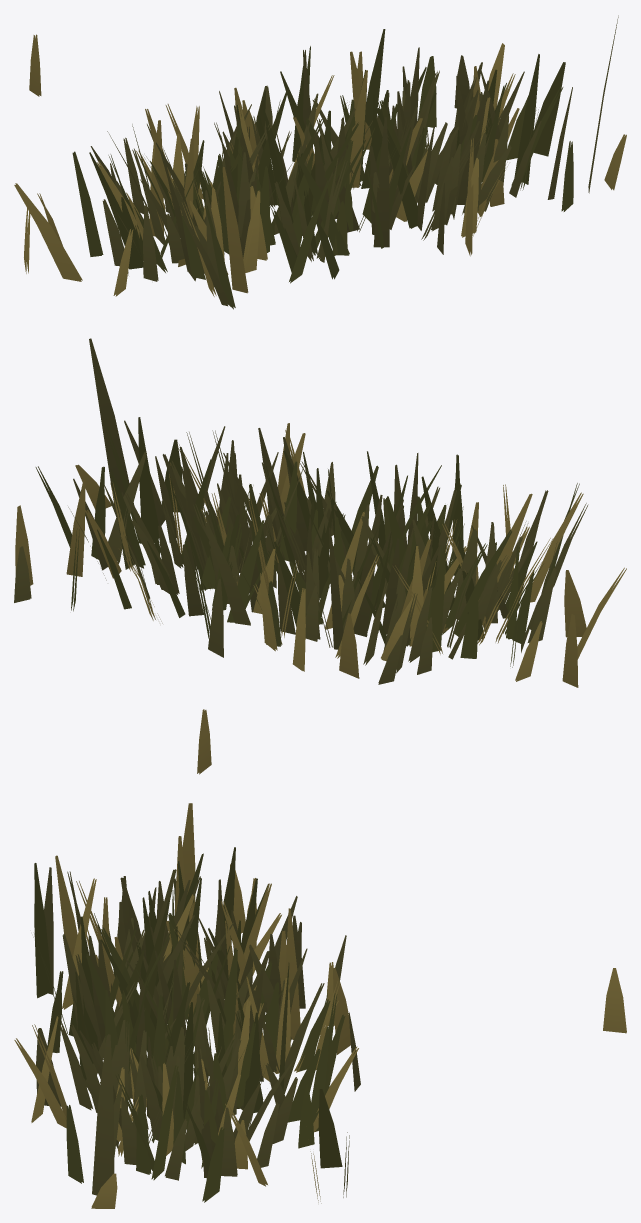
The model's file is VerGrass03.glb.
3 views of the same model, one above another, from view 1: azimuth 30°, elevation 25°; view 2: azimuth 150°, elevation 25°; view 3: azimuth 270°, elevation 25° (orthographic). The views are drawn at different scales.
Visible parts, largest first — view 1: VerGrass03_blades; view 2: VerGrass03_blades; view 3: VerGrass03_blades.
Boxes of the visible parts, <box> form: VerGrass03_blades: <box>14,15,626,309</box>; VerGrass03_blades: <box>14,338,626,774</box>; VerGrass03_blades: <box>14,803,626,1208</box>.
Size of the model in its own units: 3.59 by 1.03 by 3.07.
